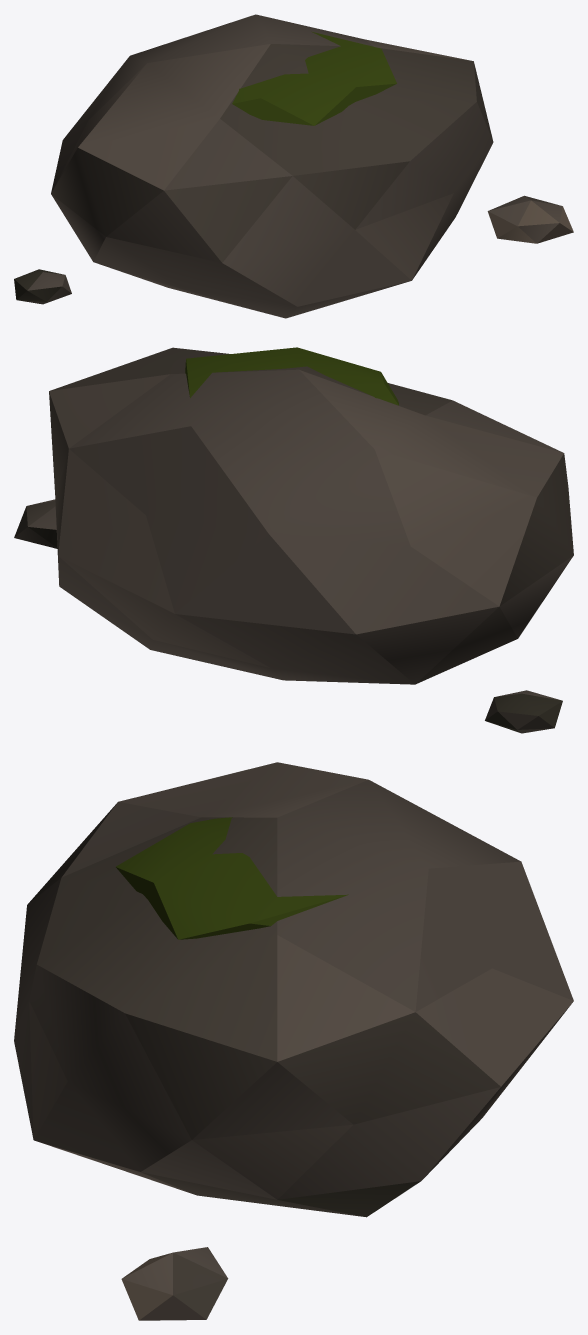
File: bg_wasteland_rock_1_lod2.glb
The picture shows the model from 3 angles, top to bottom: view 1: azimuth 30°, elevation 25°; view 2: azimuth 150°, elevation 25°; view 3: azimuth 270°, elevation 25°; orthographic projection. The views are drawn at different scales.
Visible parts, largest first — view 1: body; view 2: body; view 3: body.
Part boxes in pixels (bbox=[...]): body: bbox=[14, 14, 573, 318]; body: bbox=[14, 347, 573, 733]; body: bbox=[14, 762, 573, 1320].
Bounding box in the file's own units: 2.46 × 1.2 × 1.66.
